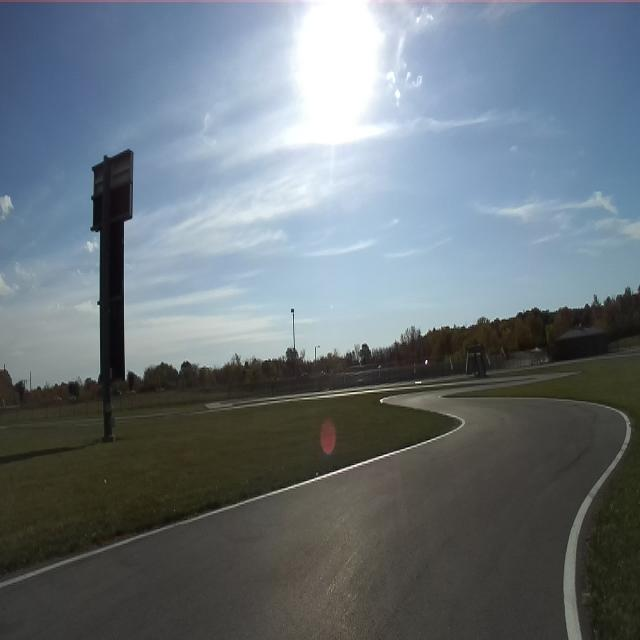white-line: (0, 411, 466, 588), (496, 397, 632, 639), (380, 396, 390, 403)
